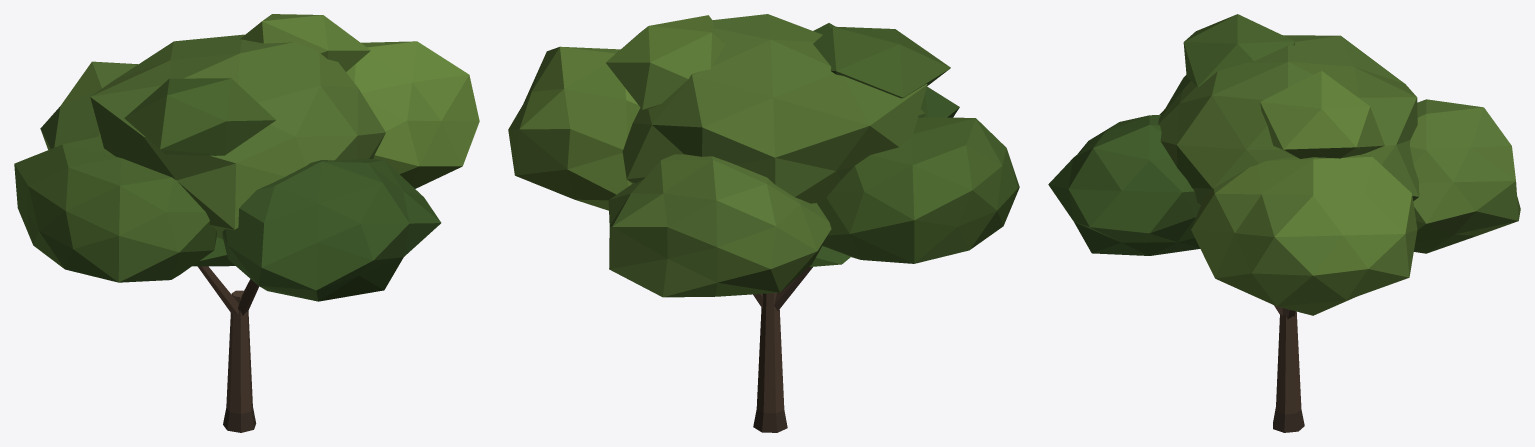
The model's file is tree_peepal.glb.
3 views of the same model, side by side, from view 1: azimuth 30°, elevation 25°; view 2: azimuth 150°, elevation 25°; view 3: azimuth 270°, elevation 25° (orthographic). The views are drawn at different scales.
Parts seen in each view (by area): view 1: tree_peepal; view 2: tree_peepal; view 3: tree_peepal.
Boxes of the visible parts, x1,y1,x2,y2 form: tree_peepal: (14, 14, 479, 432); tree_peepal: (508, 14, 1019, 432); tree_peepal: (1048, 14, 1520, 432).
Bounding box in the file's own units: 11.74 × 9.85 × 11.28.
